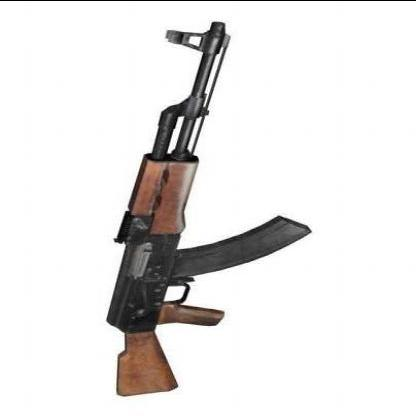rifle: (73, 15, 340, 403)
